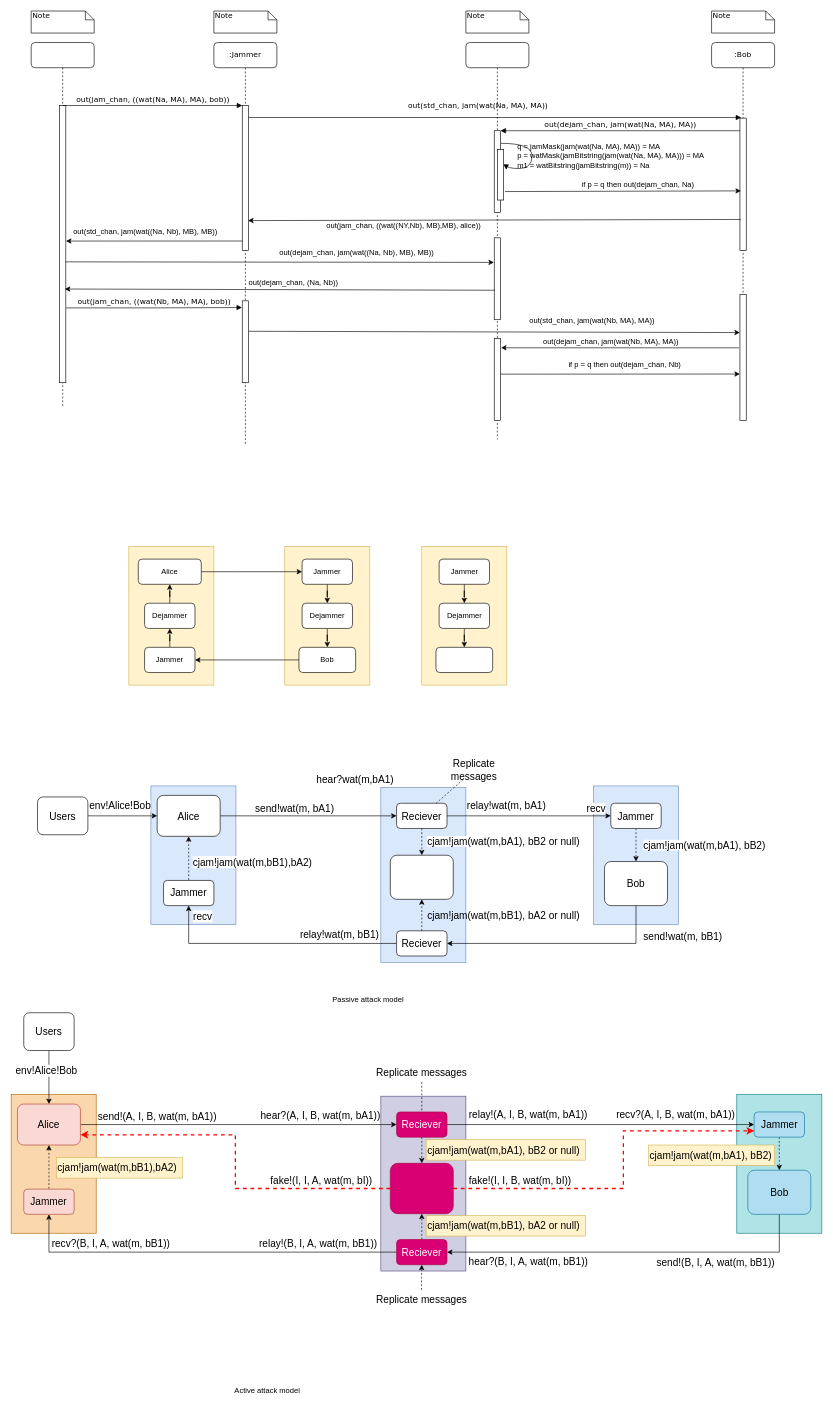
This 833x1414 diagram has some shape labels left out. The shapes that lost their labels are listed below. From the top down, each one's box as (x1, y1, x2, y2) in pixels, then its label:
(31, 42, 94, 408): :Alice
(465, 42, 529, 439): :Dejammer
(435, 647, 493, 673): Intruder
(390, 855, 453, 899): - break m - leak - sig
(390, 1163, 453, 1214): - break m - buildm - leak - sig
